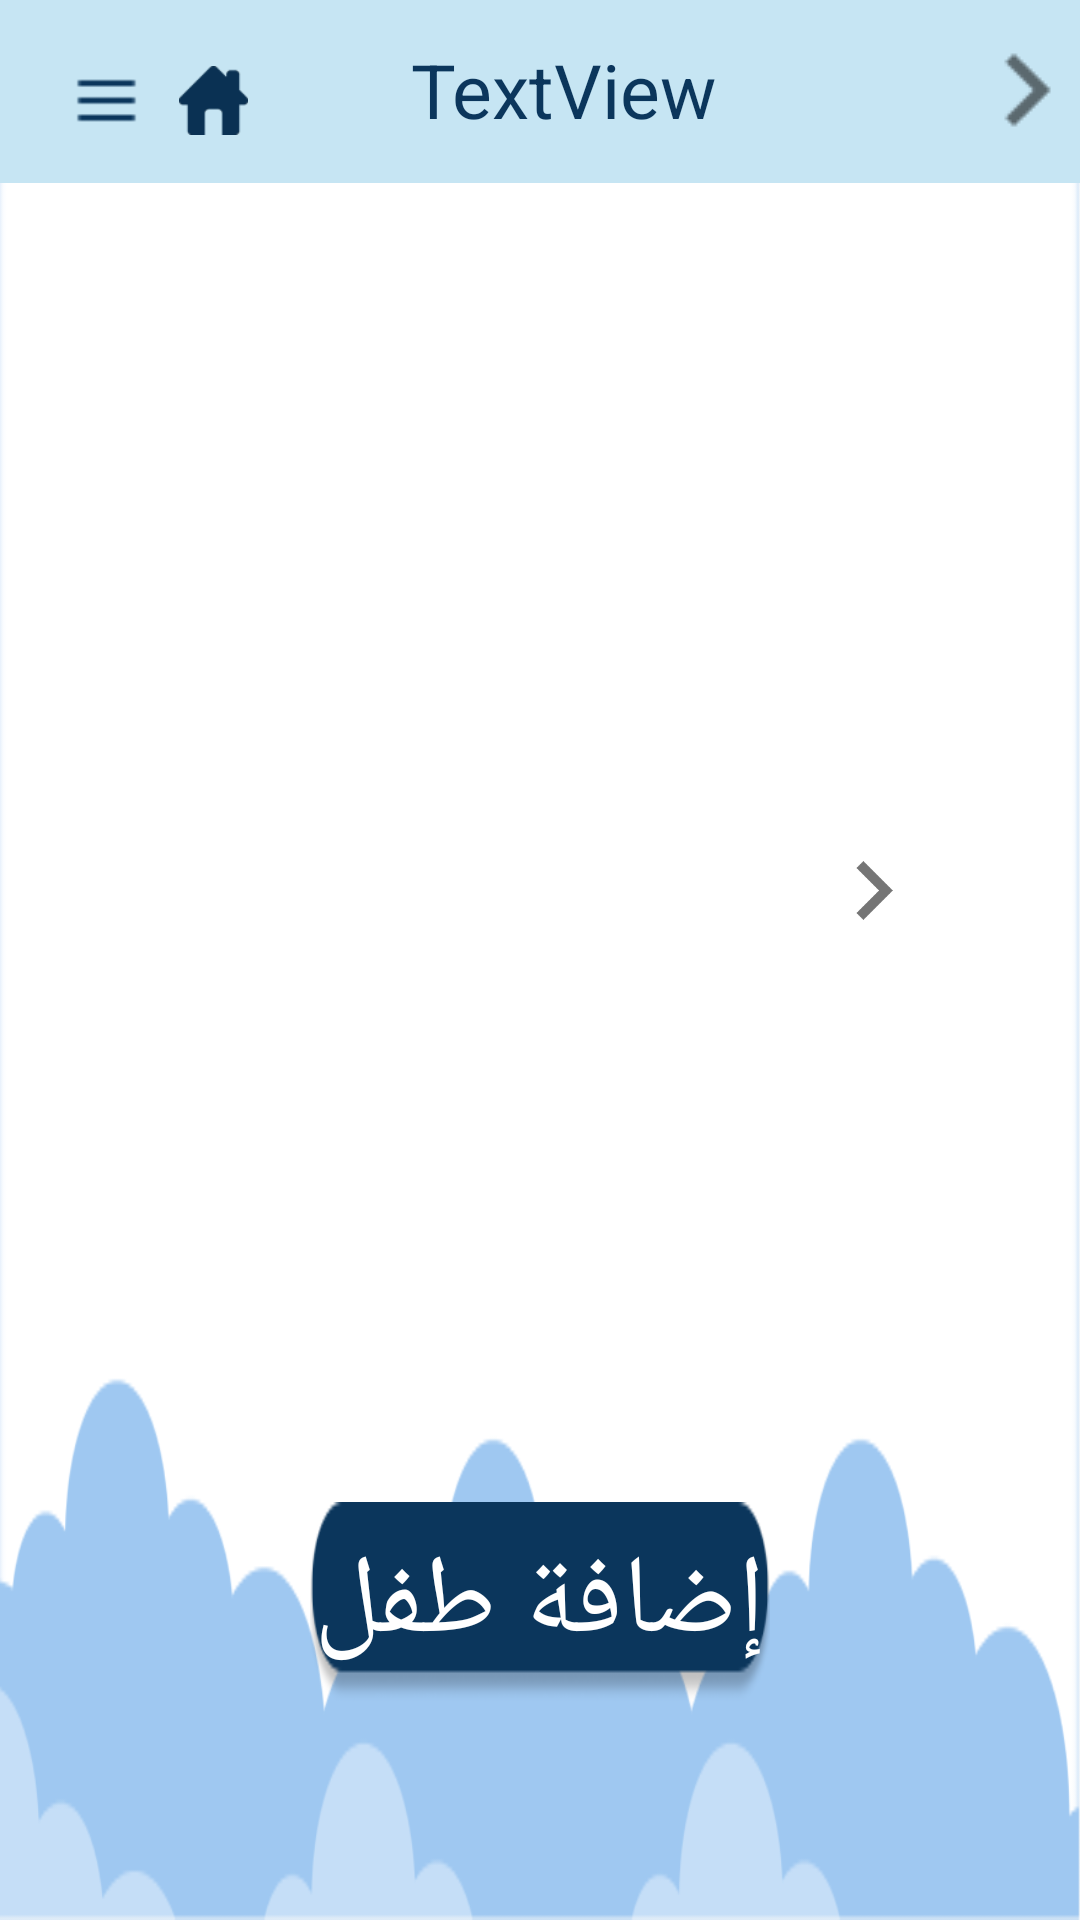

Screen size 1080w x 1920h. Icon name, then its box in pixels as (x1, y1, x2, y2):
home: (179, 66, 248, 135)
menu: (77, 79, 136, 122)
